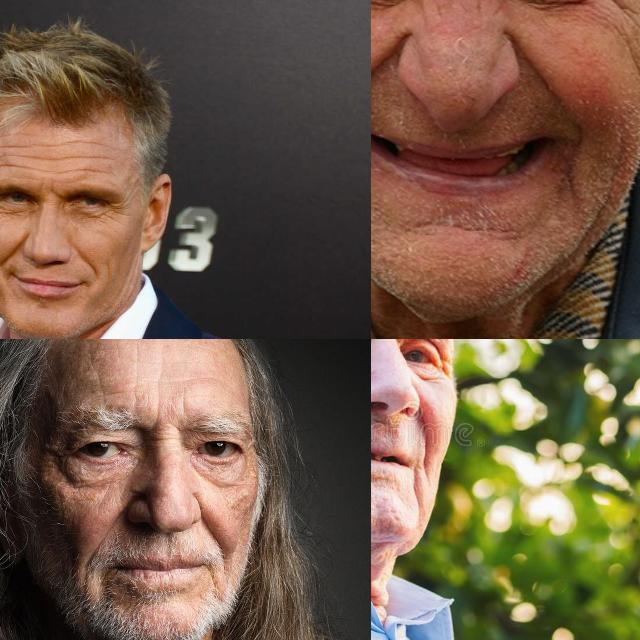chin: (456, 217, 520, 246), (409, 476, 425, 516)
crows_feet: (42, 436, 72, 464), (110, 200, 130, 222)
forehead: (50, 135, 119, 177), (0, 139, 40, 175), (158, 374, 206, 388), (91, 369, 111, 399), (128, 344, 142, 376)
frown_line: (150, 397, 167, 427), (149, 432, 177, 448), (178, 389, 192, 419)
gummy_smile: (508, 35, 556, 95), (371, 43, 402, 91), (98, 506, 130, 552), (196, 512, 227, 548), (72, 243, 101, 270), (2, 232, 22, 266), (420, 415, 434, 463)
